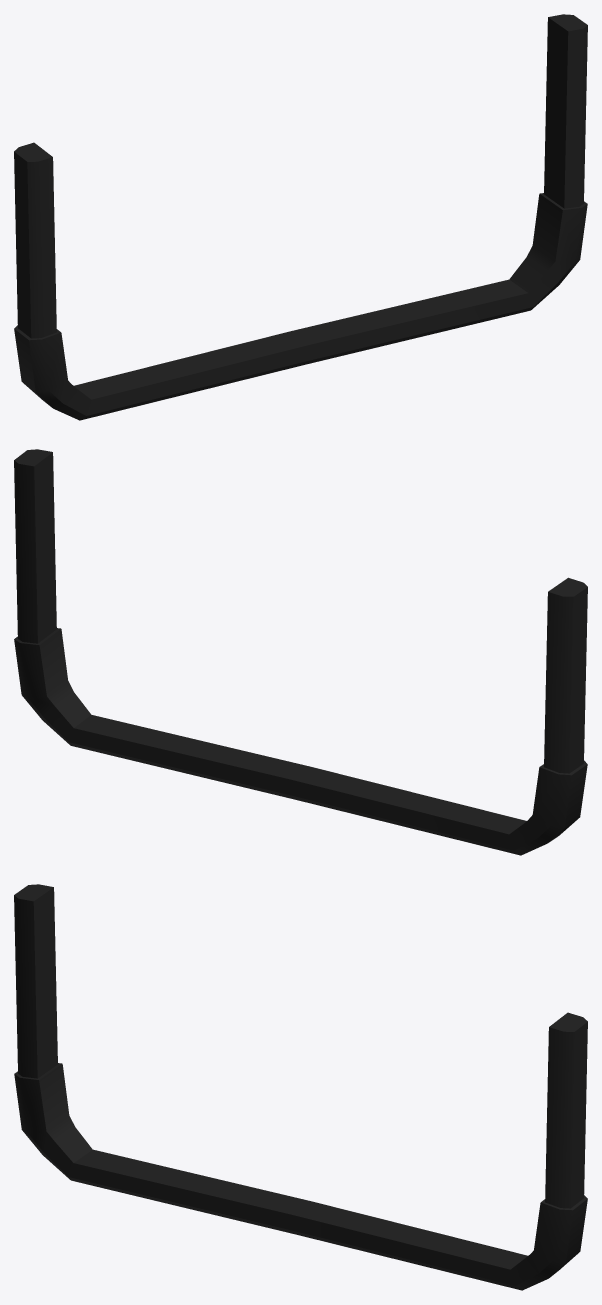
The model's file is Gaming_Chair_Arms_Base_2.obj.
The picture shows the model from 3 angles, top to bottom: view 1: azimuth 30°, elevation 25°; view 2: azimuth 150°, elevation 25°; view 3: azimuth 330°, elevation 25°; orthographic projection.
Visible parts, largest first — view 1: Gaming_Chair_Arms_Base_2; view 2: Gaming_Chair_Arms_Base_2; view 3: Gaming_Chair_Arms_Base_2.
Part boxes in pixels (x1,y1,x2,y2): Gaming_Chair_Arms_Base_2: [14, 14, 587, 420]; Gaming_Chair_Arms_Base_2: [14, 449, 587, 855]; Gaming_Chair_Arms_Base_2: [14, 884, 587, 1290].
Size of the model in its own units: 0.7013 by 0.329 by 0.0495.
